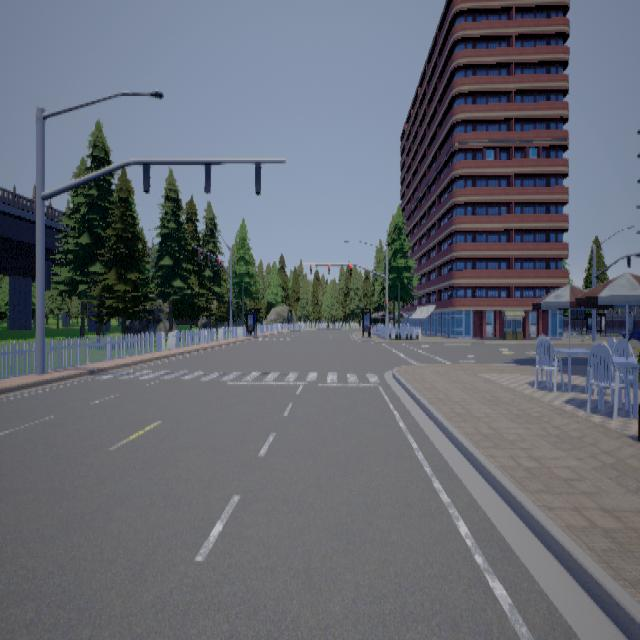red_light: (349, 264, 352, 274), (385, 298, 387, 308), (328, 264, 330, 274), (310, 264, 312, 274)
